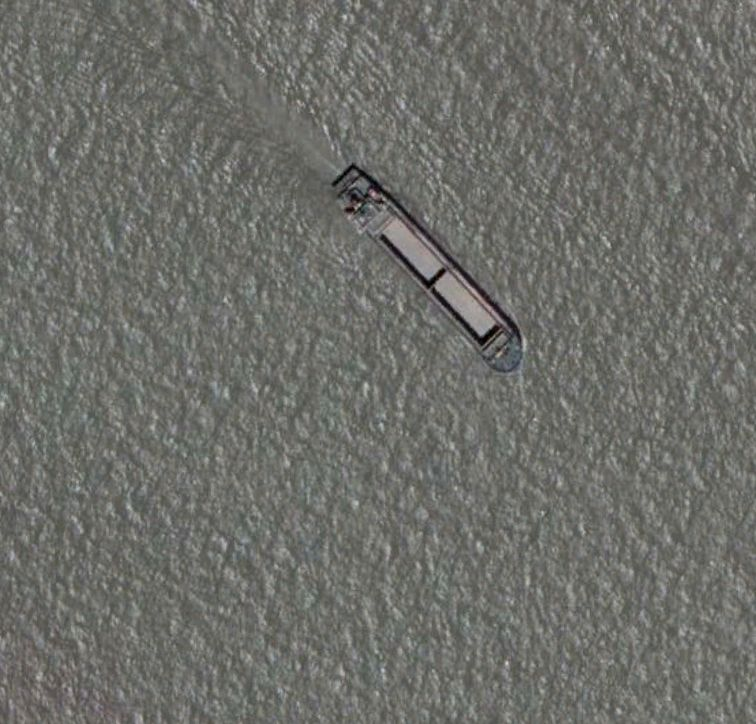boat: (326, 157, 525, 373)
